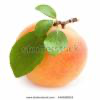Peach leaf: (9, 31, 45, 80), (44, 29, 68, 59), (32, 3, 60, 19), (32, 19, 55, 37)
